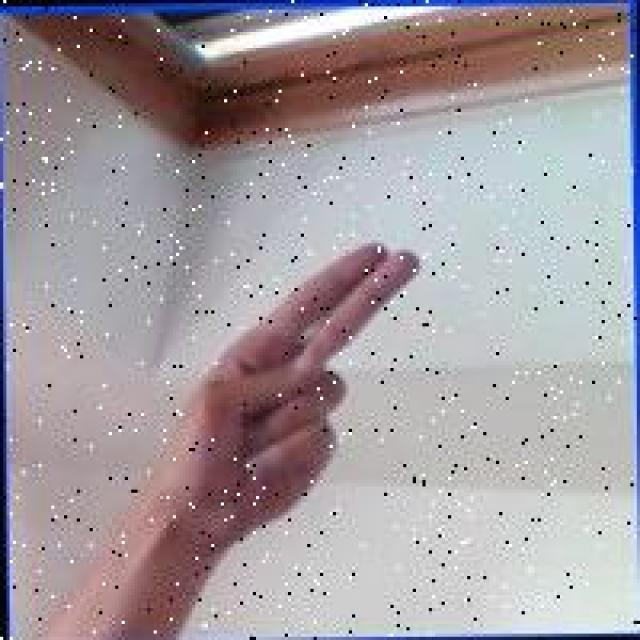H: (154, 235, 426, 552)
